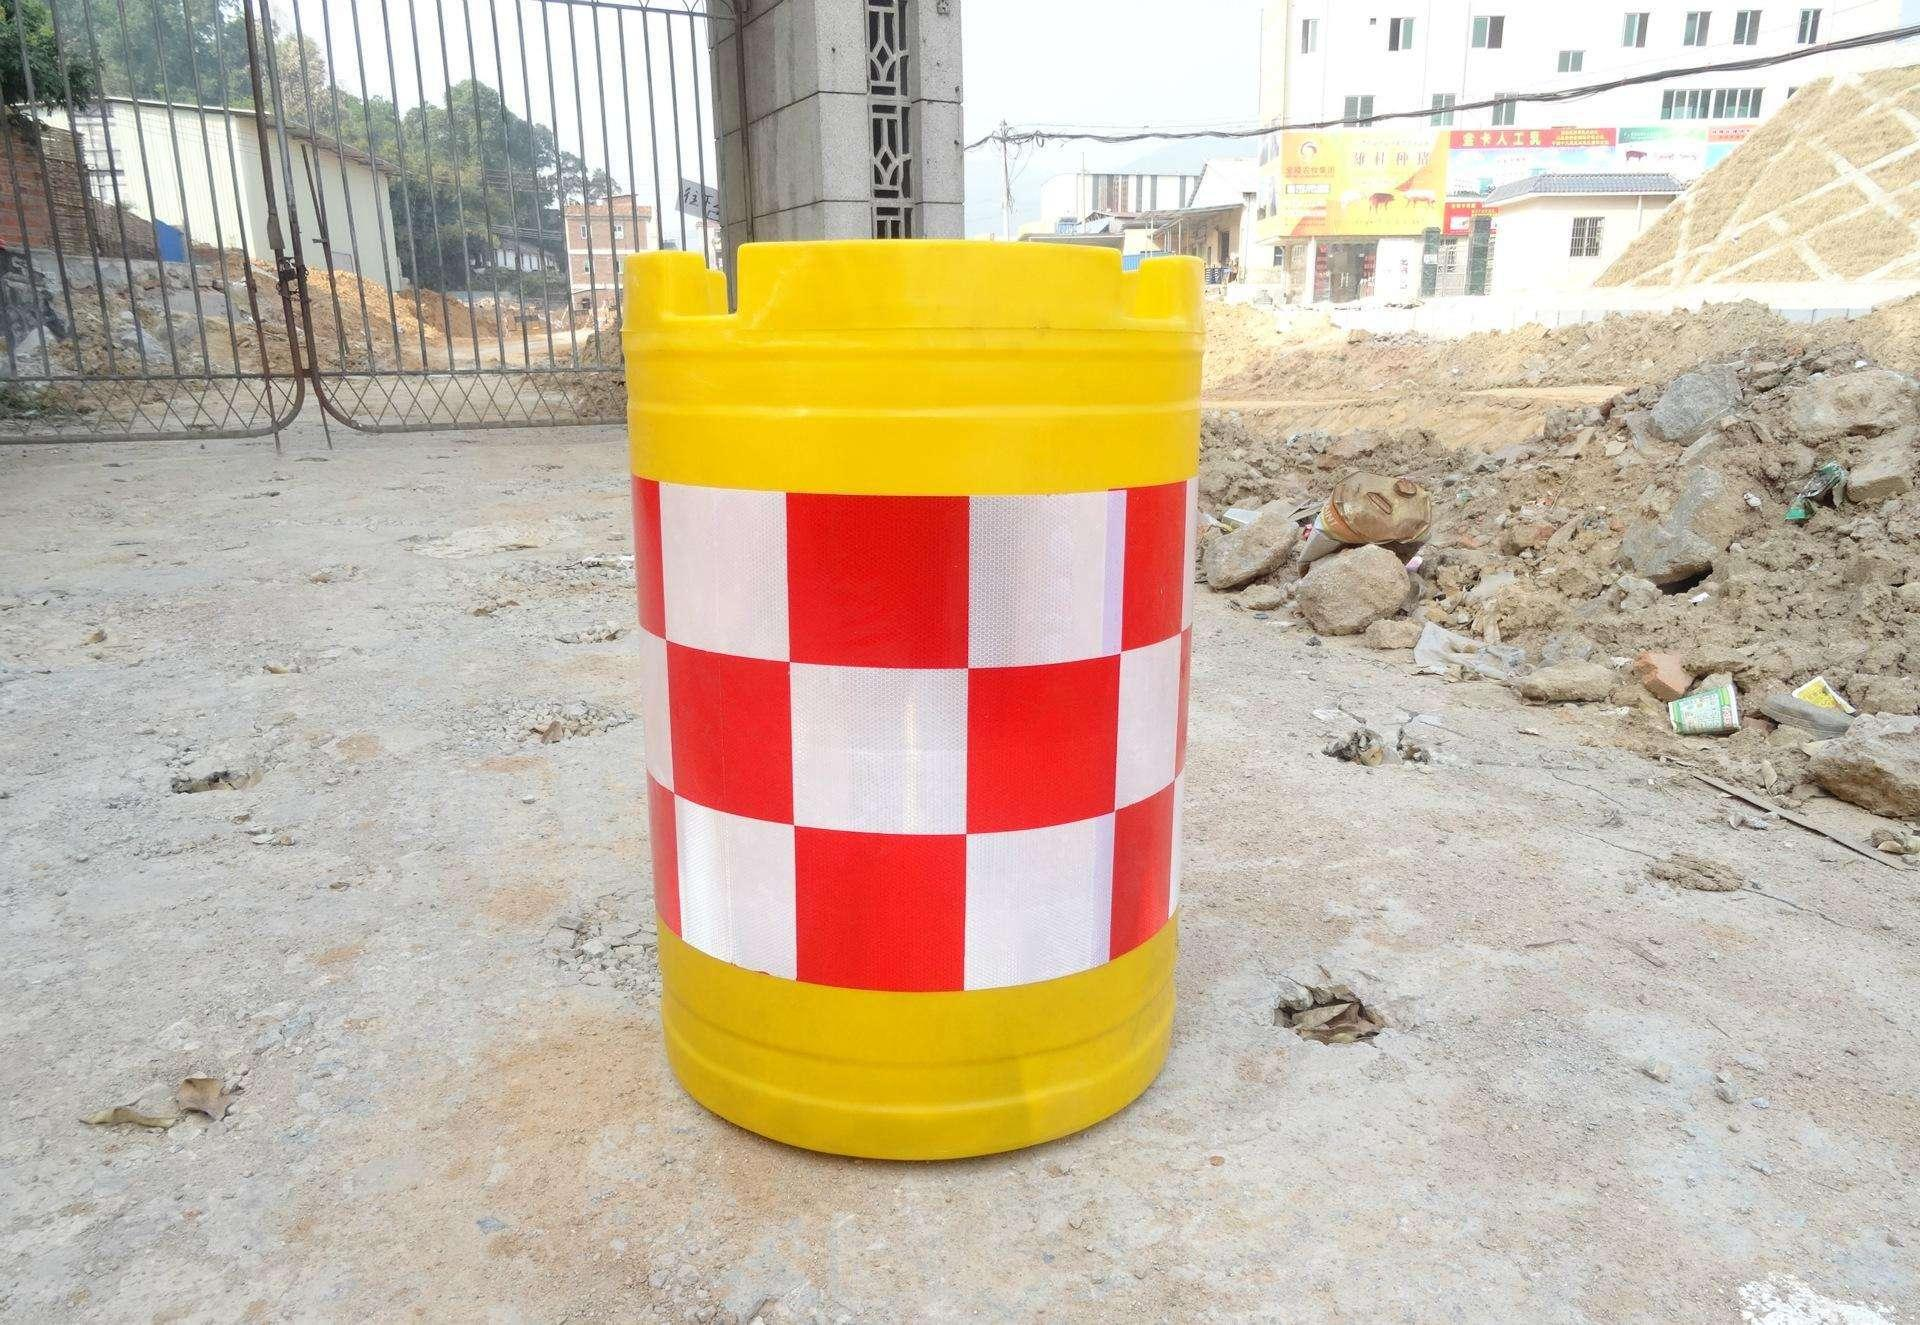sign: (575, 196, 1261, 1167)
